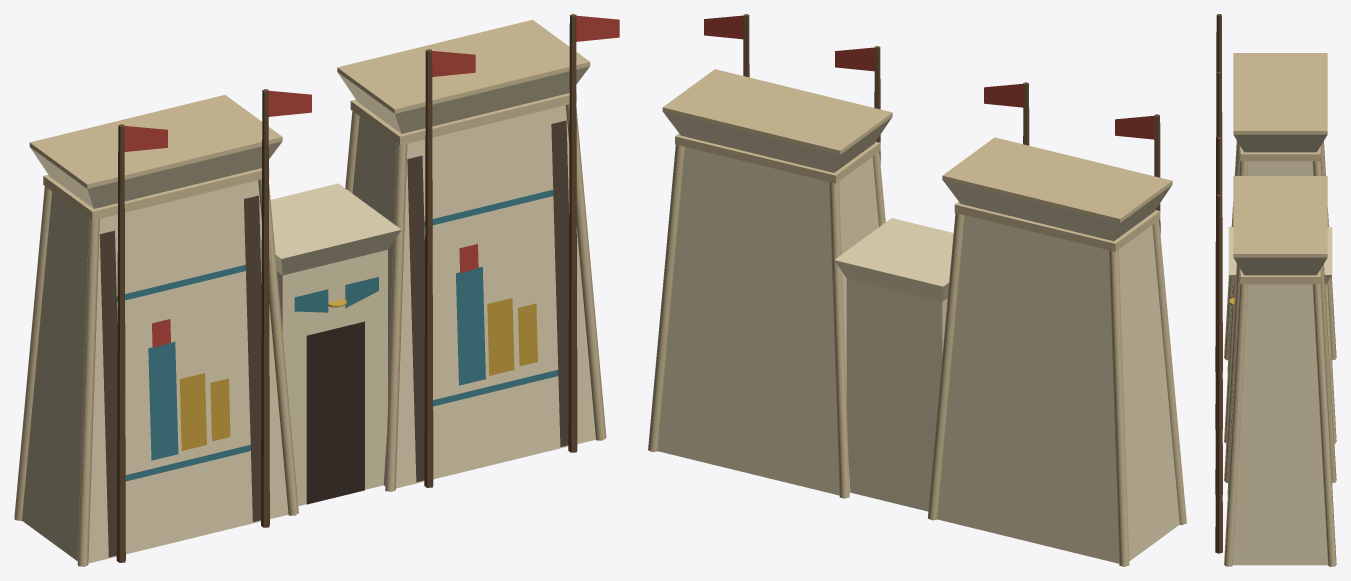
The model's file is pylon.glb.
The picture shows the model from 3 angles, left to right: view 1: azimuth 30°, elevation 25°; view 2: azimuth 150°, elevation 25°; view 3: azimuth 270°, elevation 25°; orthographic projection. The views are drawn at different scales.
Parts seen in each view (by area): view 1: pylon; view 2: pylon; view 3: pylon.
Boxes of the visible parts, left/top/right/bottom form: pylon: left=14, top=14, right=619, bottom=566; pylon: left=648, top=14, right=1186, bottom=566; pylon: left=1215, top=14, right=1336, bottom=566.
Bounding box in the file's own units: 6.36 × 4.94 × 1.52.
